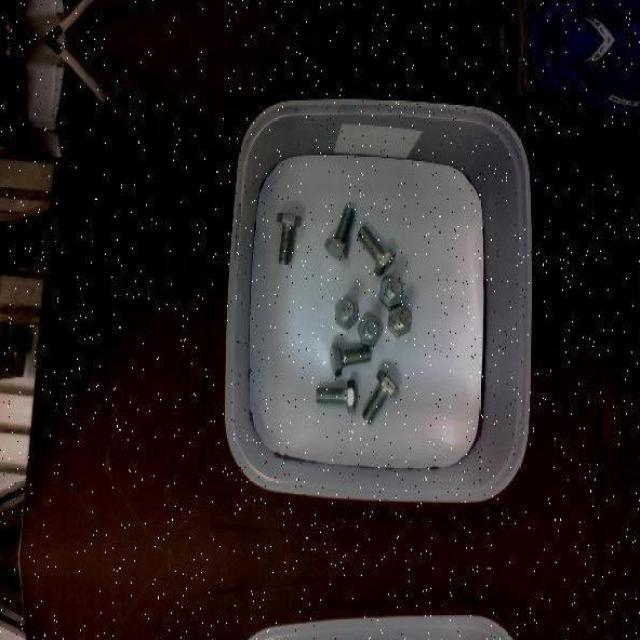screw: (358, 223, 396, 276), (361, 369, 398, 423), (324, 205, 355, 259), (330, 339, 371, 377), (274, 212, 300, 264), (316, 380, 356, 412), (387, 305, 412, 338), (379, 274, 404, 306), (357, 312, 382, 344), (334, 296, 358, 329)
